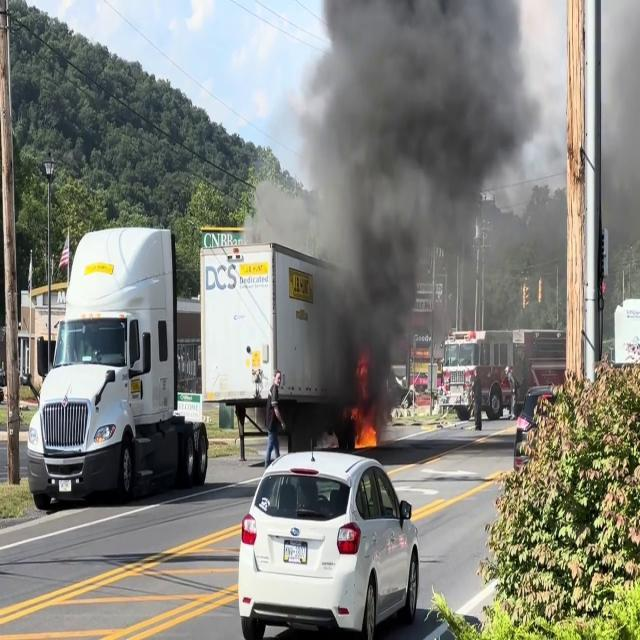Fire: (351, 408, 380, 453)
Smoke: (268, 0, 552, 390), (598, 0, 639, 357)
